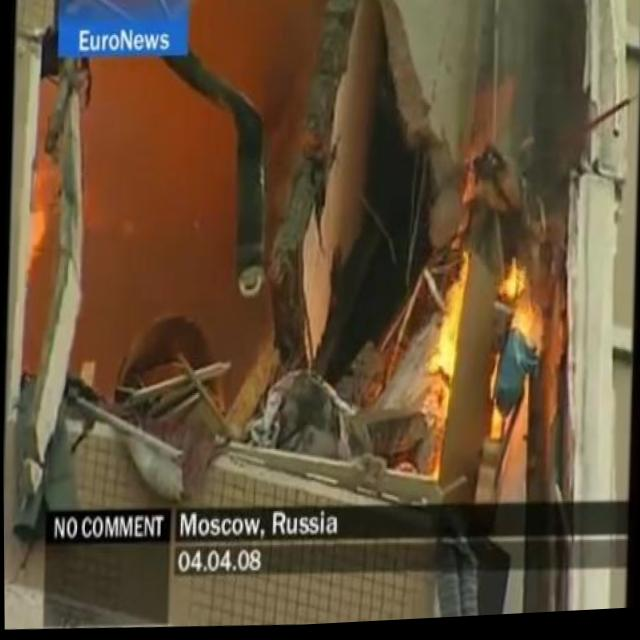fire: (425, 256, 539, 440)
